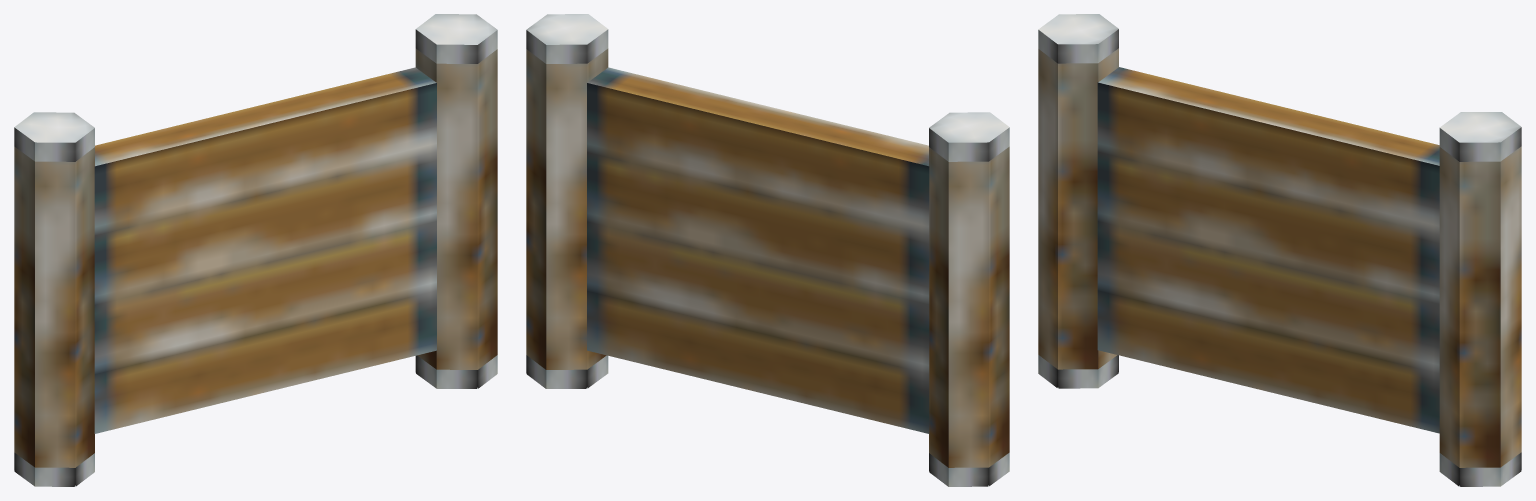
Rendered from Poly_Direction_Board_03_Snow.obj.
The picture shows the model from 3 angles, left to right: view 1: azimuth 30°, elevation 25°; view 2: azimuth 150°, elevation 25°; view 3: azimuth 330°, elevation 25°; orthographic projection.
Visible parts, largest first — view 1: Cylinder.002, Cylinder, Cylinder.001_Cylinder.004; view 2: Cylinder.002, Cylinder, Cylinder.001_Cylinder.004; view 3: Cylinder.002, Cylinder.001_Cylinder.004, Cylinder.
Boxes of the visible parts, box(x1,y1,x2,y2) form: Cylinder.002: box(94, 67, 436, 433); Cylinder: box(14, 112, 94, 486); Cylinder.001_Cylinder.004: box(415, 14, 497, 388); Cylinder.002: box(587, 67, 929, 433); Cylinder: box(929, 112, 1009, 486); Cylinder.001_Cylinder.004: box(526, 14, 608, 388); Cylinder.002: box(1097, 67, 1439, 433); Cylinder.001_Cylinder.004: box(1439, 112, 1521, 486); Cylinder: box(1038, 14, 1118, 388).
Size of the model in its own units: 1.27 by 0.9 by 0.2003.
Materials: 1 (1 with a texture image).
